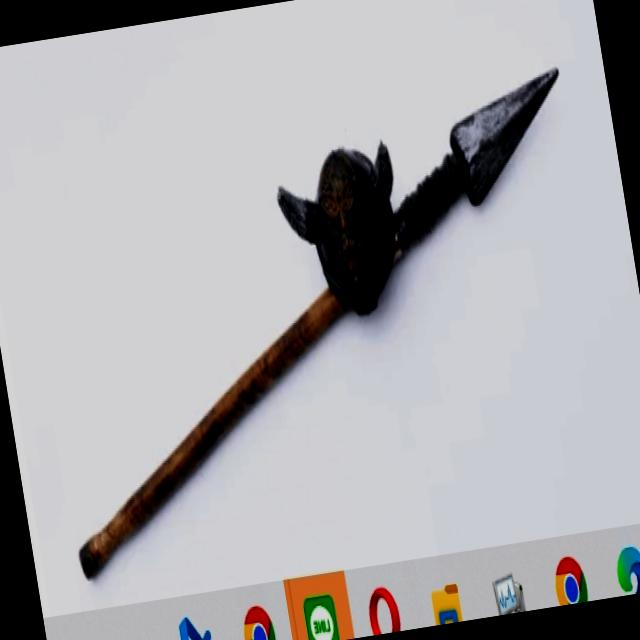spear: (1, 36, 640, 598)
